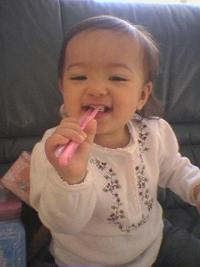person: (28, 13, 200, 266)
